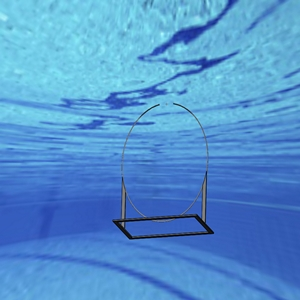circle: (111, 100, 215, 240)
